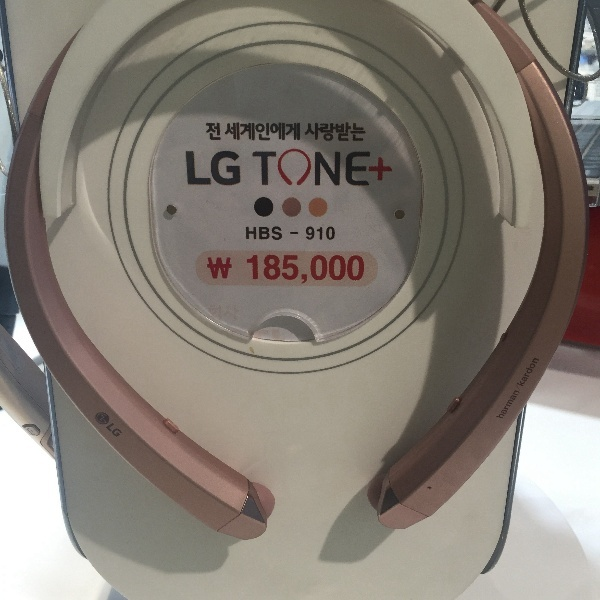text: (193, 151, 208, 186), (209, 151, 224, 186), (225, 151, 240, 186), (257, 152, 272, 187), (273, 152, 288, 187), (289, 152, 304, 187), (305, 152, 320, 187), (321, 152, 336, 187), (337, 152, 352, 187), (353, 152, 368, 187), (369, 152, 384, 187), (209, 251, 224, 285), (225, 251, 240, 285), (241, 251, 256, 285), (257, 251, 272, 285), (273, 251, 288, 285), (289, 251, 304, 285), (305, 251, 320, 285), (321, 251, 336, 285), (337, 251, 352, 285), (497, 389, 512, 419), (353, 251, 366, 285), (517, 358, 528, 388), (529, 358, 540, 388), (241, 122, 256, 142), (257, 122, 272, 142), (273, 122, 288, 142), (321, 123, 336, 142), (337, 123, 352, 142), (385, 152, 393, 187), (226, 122, 240, 142), (209, 122, 222, 141), (353, 123, 366, 142), (113, 423, 128, 439), (289, 122, 301, 142), (513, 389, 521, 419), (308, 123, 320, 142), (257, 226, 272, 240), (186, 151, 192, 186), (306, 226, 320, 240), (321, 226, 335, 240), (97, 412, 112, 425), (246, 226, 256, 240), (252, 152, 256, 187), (273, 226, 282, 240), (290, 230, 304, 236), (206, 251, 208, 285), (206, 122, 208, 141), (241, 151, 242, 186)
